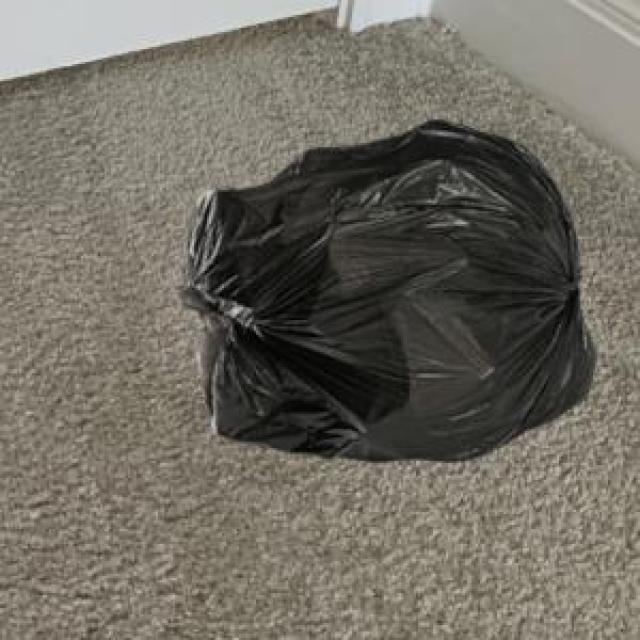miscellaneous trash: (171, 115, 591, 457)
